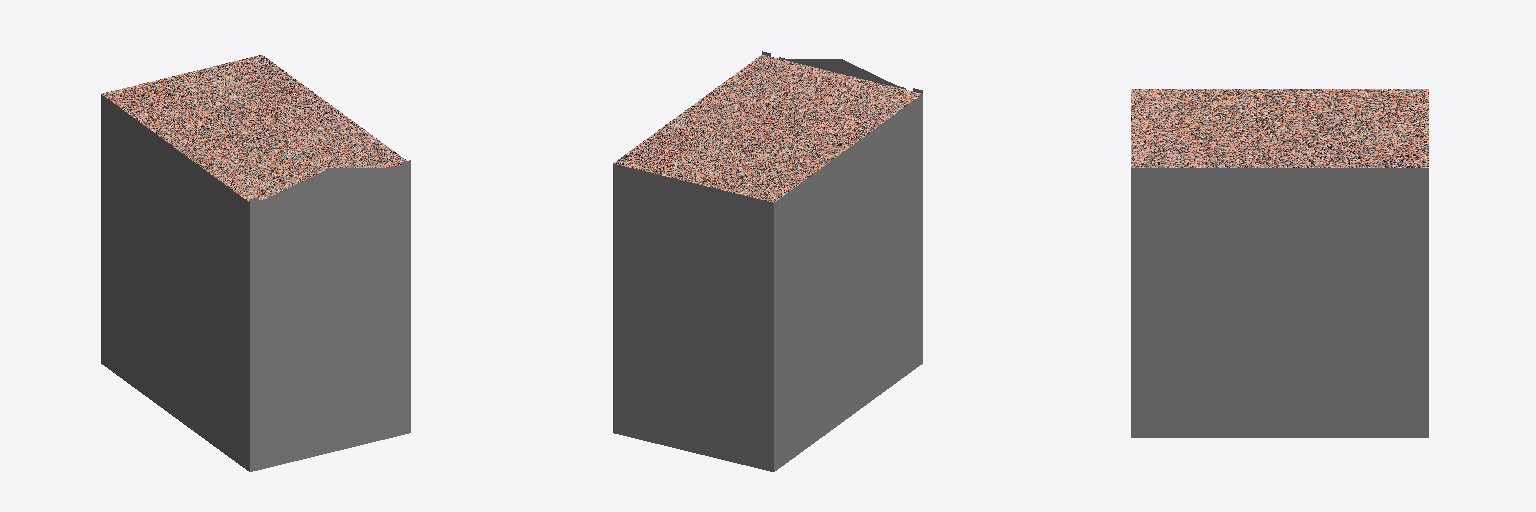
The picture shows the model from 3 angles: view 1: azimuth 30°, elevation 25°; view 2: azimuth 150°, elevation 25°; view 3: azimuth 270°, elevation 25°; orthographic projection.
Visible parts, largest first — view 1: Principal, Frente; view 2: Principal, Frente; view 3: Principal.
Boxes of the visible parts, box(x1,y1,x2,y2) form: Principal: box(101, 55, 406, 471); Frente: box(250, 160, 410, 471); Principal: box(613, 55, 922, 471); Frente: box(762, 51, 922, 93); Principal: box(1131, 89, 1428, 437).
Size of the model in its own units: 25 by 42.22 by 40.03.
Materials: 9 (7 with a texture image).